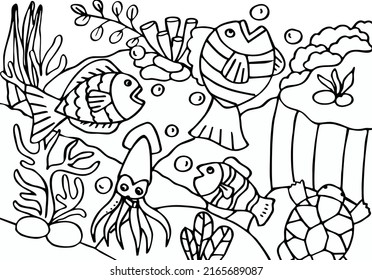animal: (105, 121, 163, 242), (289, 179, 359, 261)
fish: (190, 23, 277, 138), (40, 64, 143, 133), (198, 157, 277, 227)
